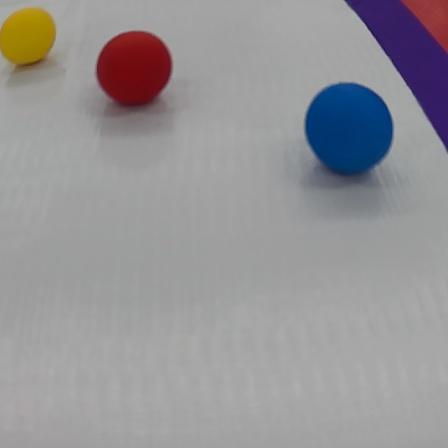blue: (305, 77, 393, 183)
red: (97, 29, 174, 110)
red_aim: (321, 0, 447, 169)
yellow: (2, 7, 58, 70)
